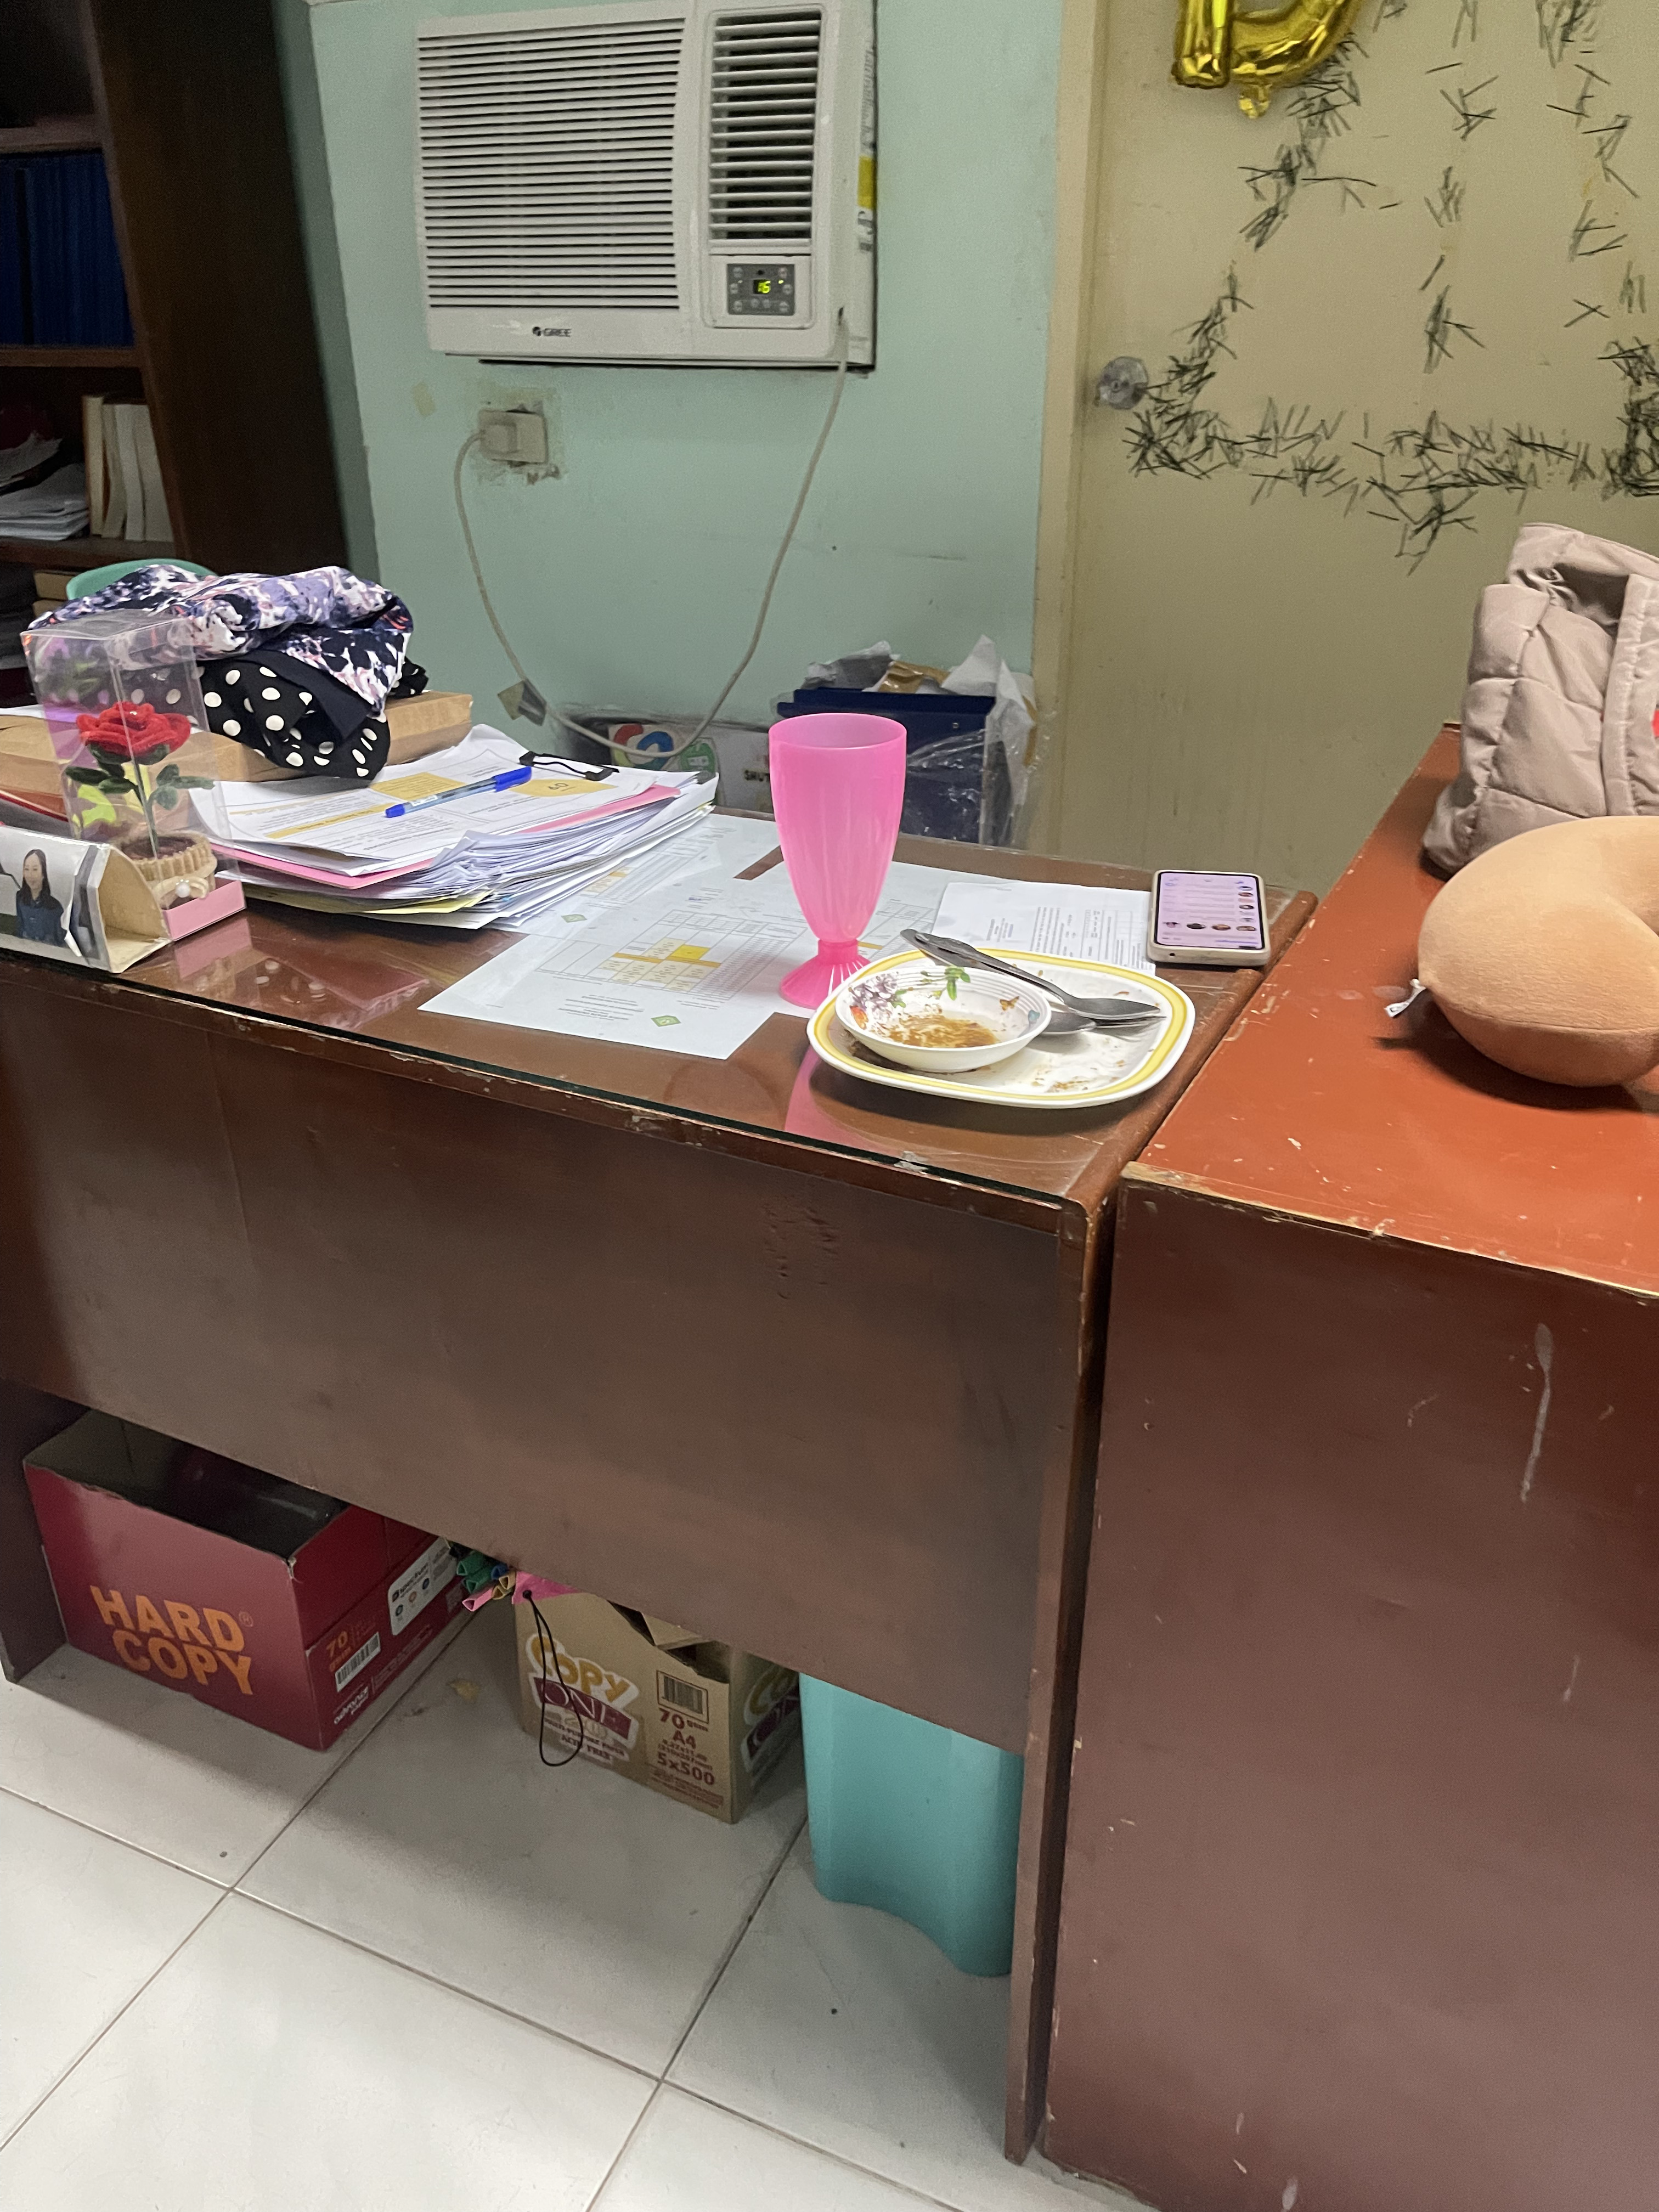table2: (3, 681, 1659, 2212)
